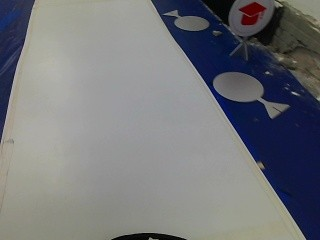school: (227, 0, 275, 37)
